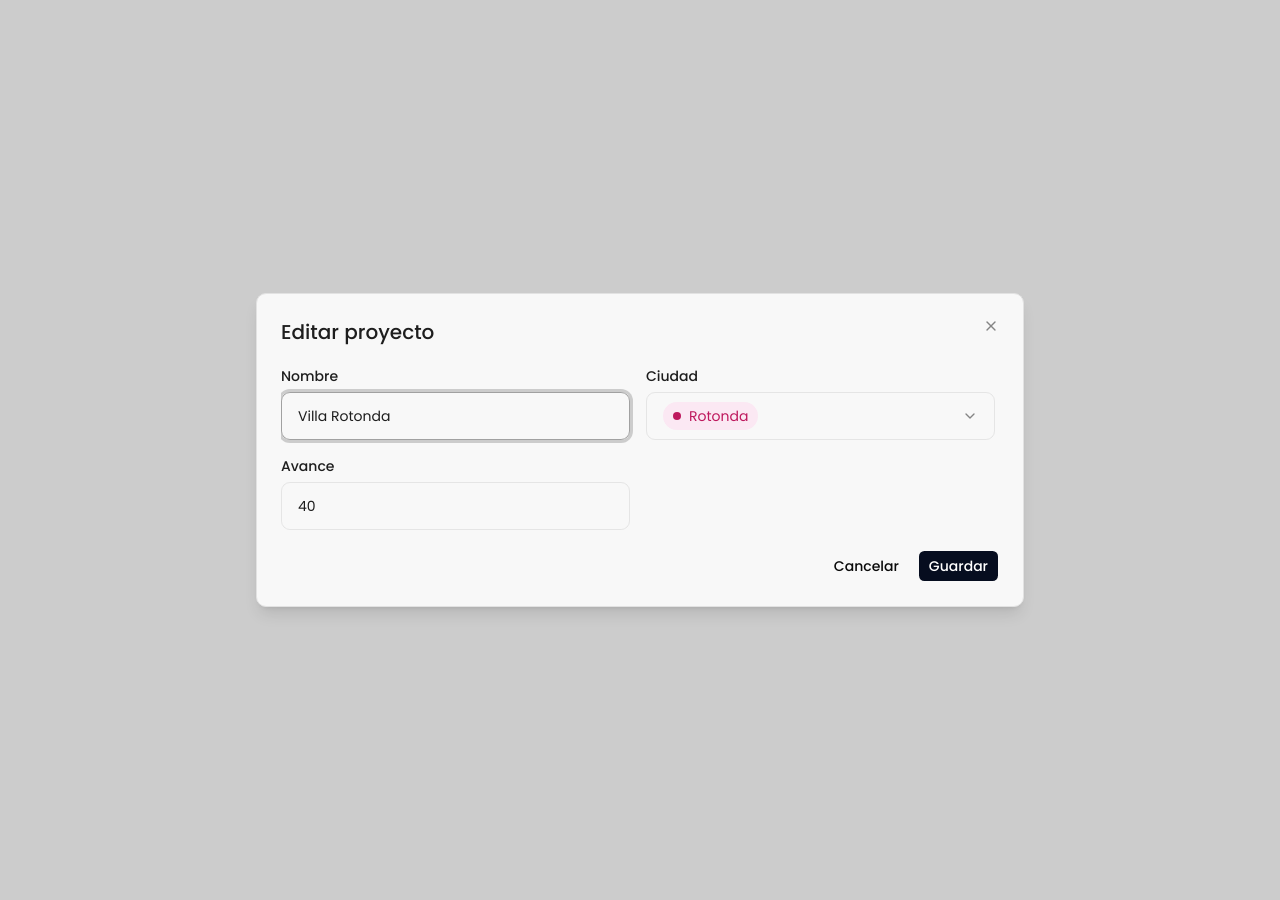
Scenario: editing a record › refuses to submit when nothing was touched
What coordinates should you click on to do the following:
click the button "Guardar"
I would click on:
 (958, 566)
Its box is [918,550,999,582].
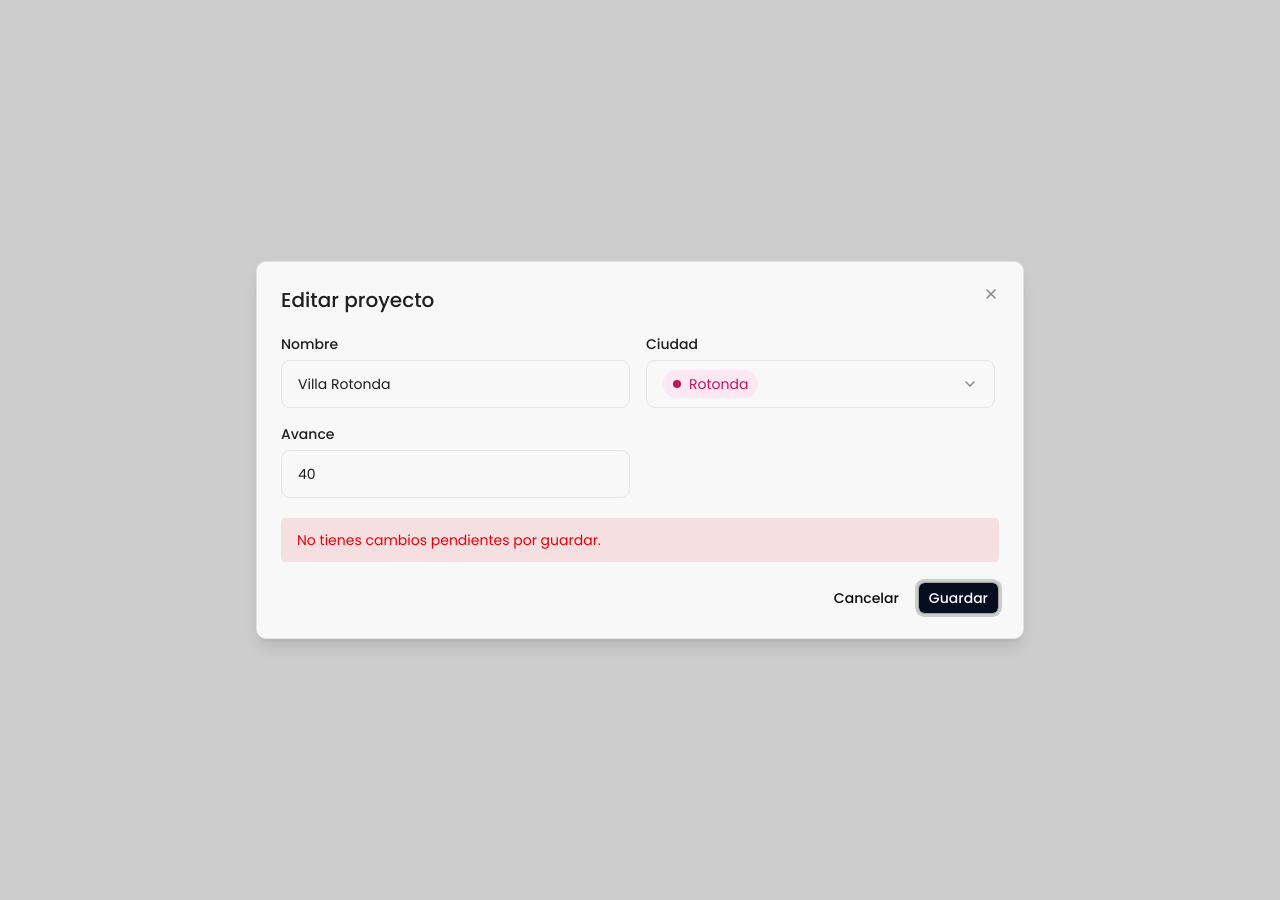
Now the message reads "No tienes cambios pendientes por guardar.", box [297,530,601,550]
